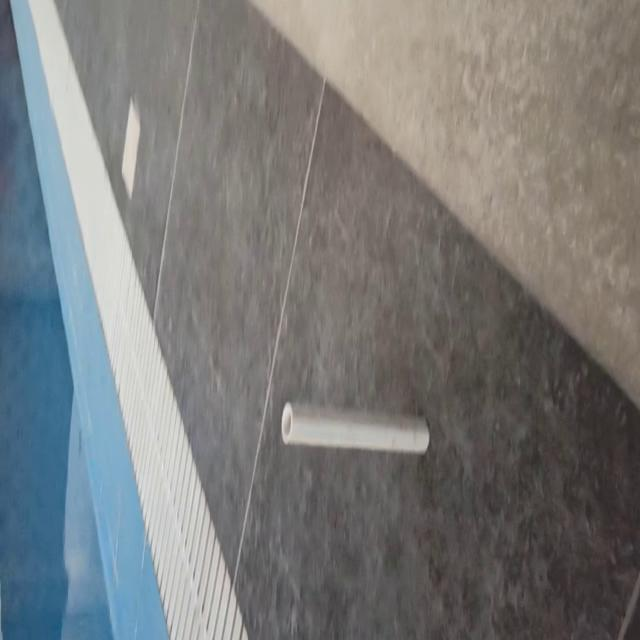Cube: (280, 399, 430, 456)
